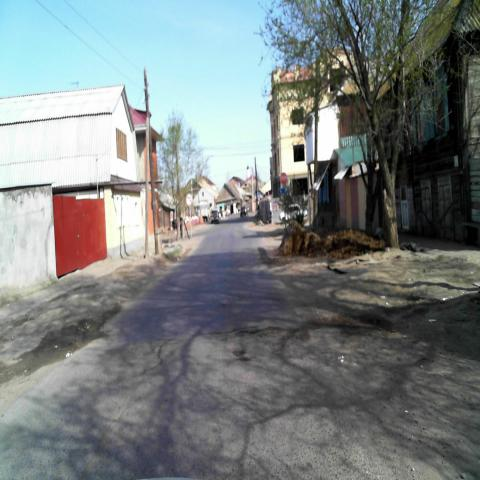3_18_2: (184, 192, 194, 206)
